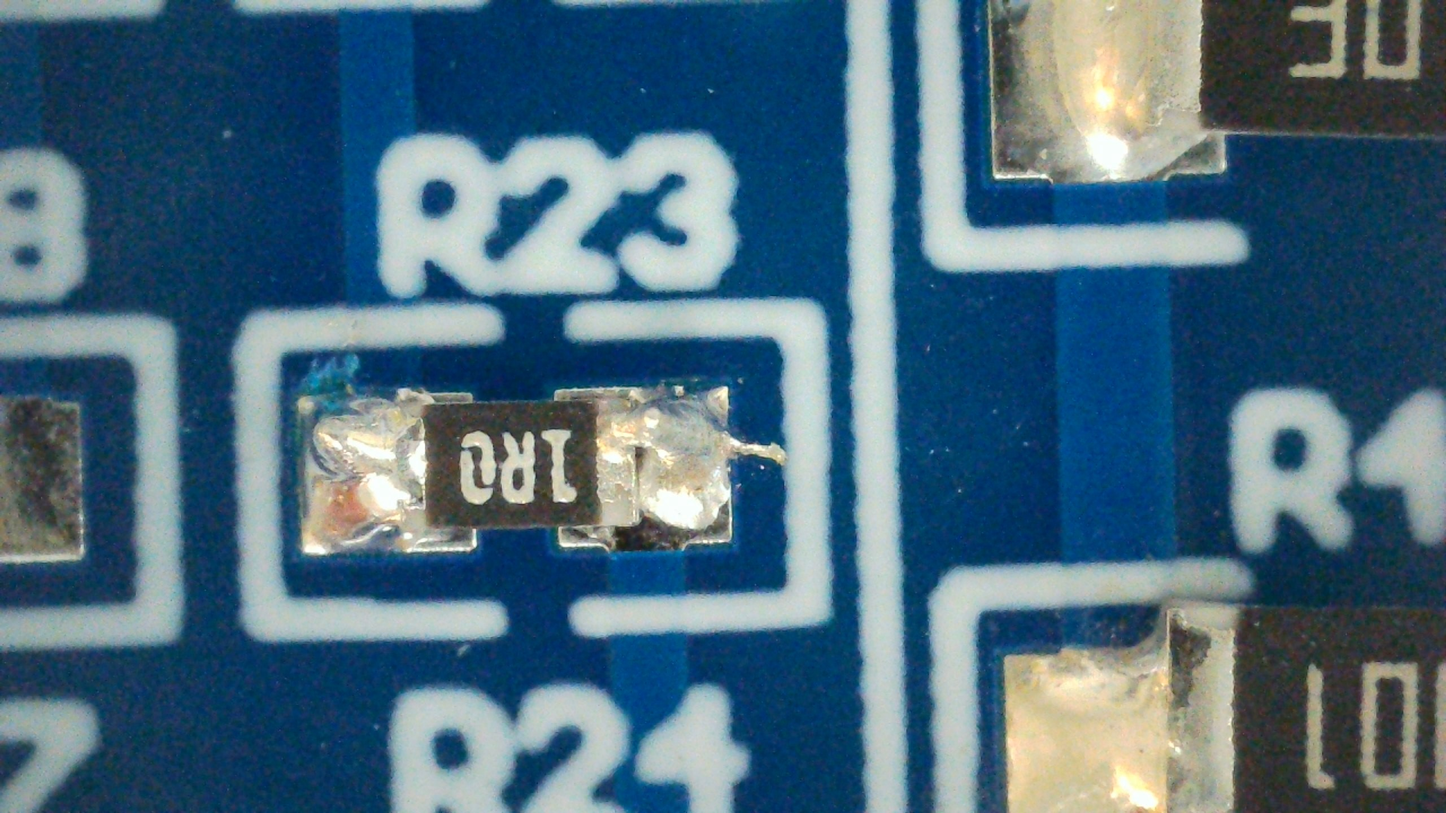OK: (301, 389, 790, 555)
